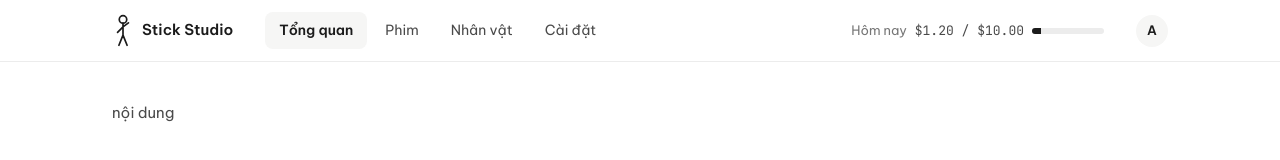
Test case: layout › the avatar opens a menu with Đăng xuất, and Escape closes it
Expected: the button "Đăng xuất" is not shown
Click the button named "Tài khoản" at (1152, 30), box [1136,14,1168,46]
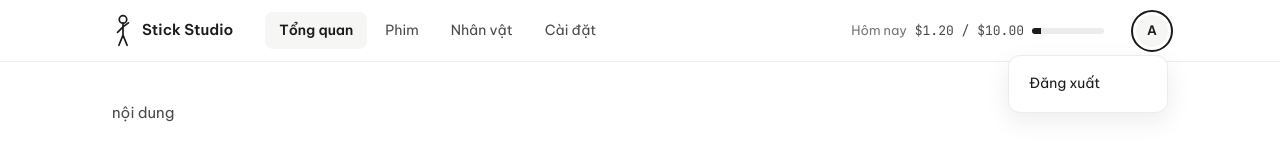
Now the button "Đăng xuất" is shown, box [1017,64,1159,104]
Press Escape
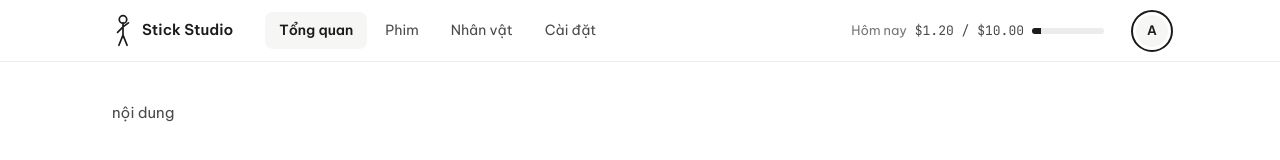
Now the button "Đăng xuất" is gone
